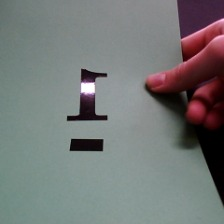green1: (61, 62, 117, 154)
